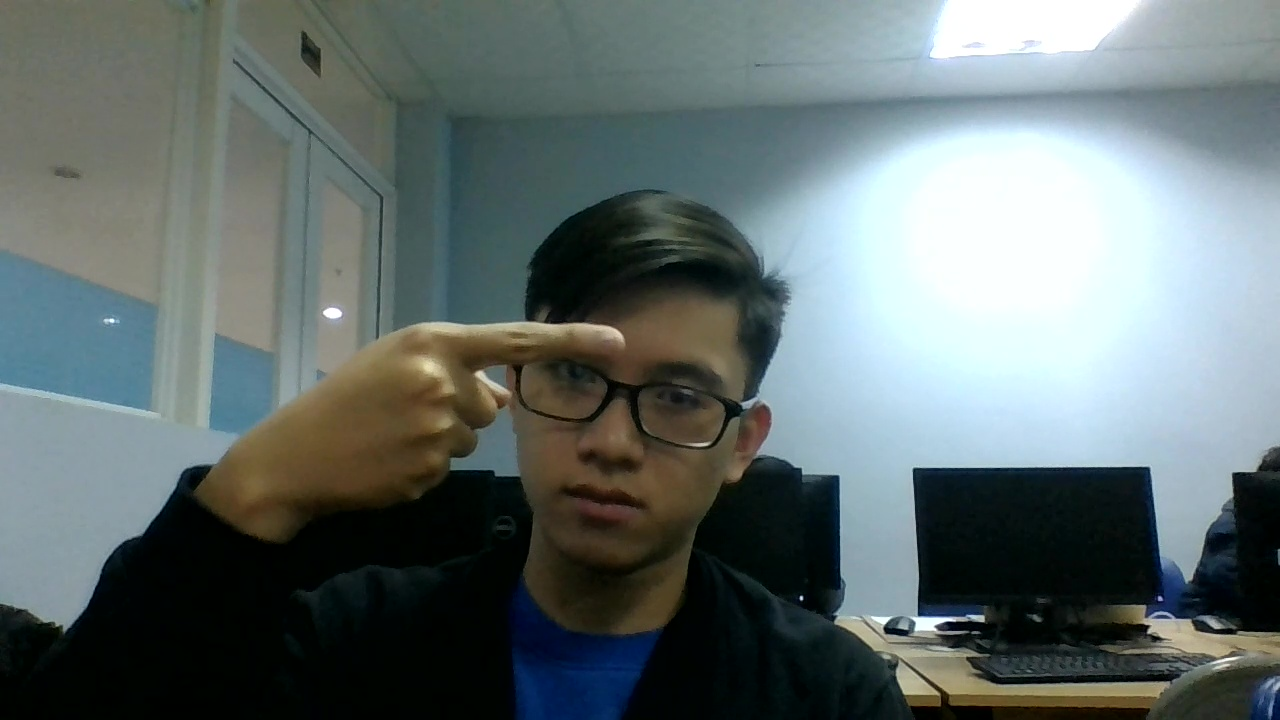left: (230, 316, 626, 505)
